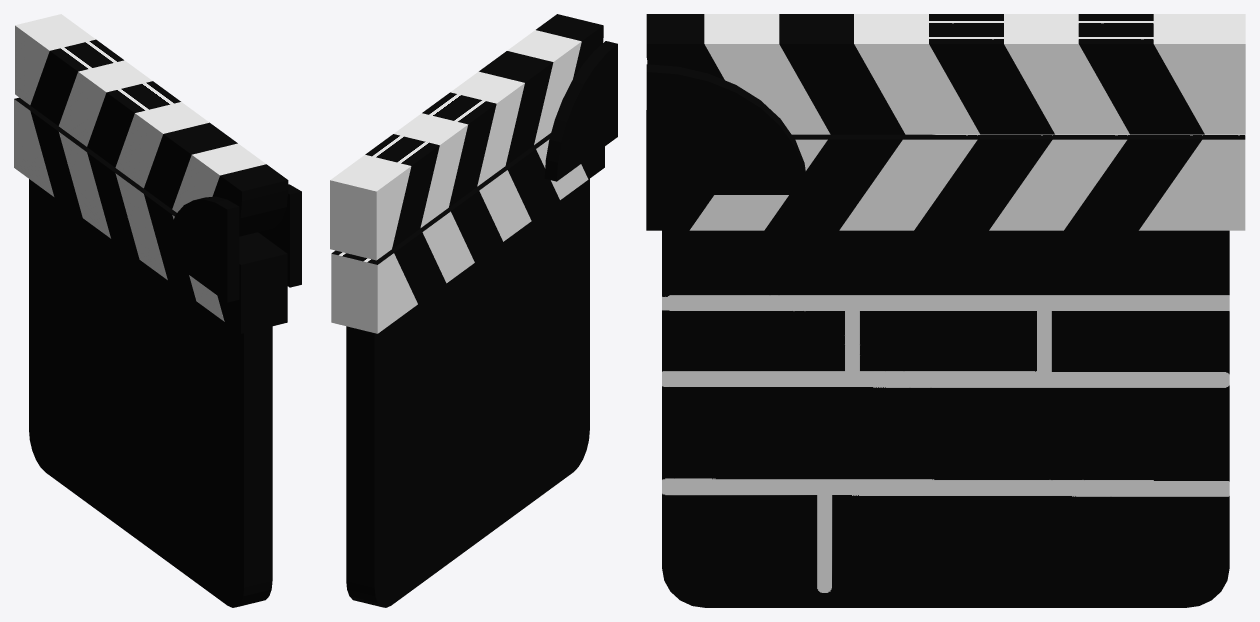
File: movie_cut_whygari.glb
3 renders of one model, left to right at view 1: azimuth 30°, elevation 25°; view 2: azimuth 150°, elevation 25°; view 3: azimuth 270°, elevation 25°, orthographic. The views are drawn at different scales.
Visible parts, largest first — view 1: panel, topBar, bottomBar, hinge; view 2: panel, topBar, bottomBar, hinge; view 3: panel, topBar, bottomBar, hinge.
Part boxes in pixels (<box>): panel: <box>29,179,272,607</box>; topBar: <box>15,14,288,236</box>; bottomBar: <box>14,97,287,333</box>; hinge: <box>166,184,301,302</box>; panel: <box>346,179,589,607</box>; topBar: <box>330,14,603,260</box>; bottomBar: <box>331,133,604,333</box>; hinge: <box>544,41,617,181</box>; panel: <box>662,230,1229,607</box>; topBar: <box>646,14,1245,134</box>; bottomBar: <box>646,110,1245,230</box>; hinge: <box>646,62,807,194</box>.
Size of the model in its own units: 0.537 by 2.98 by 2.84.
Materials: 4 (1 with a texture image).
